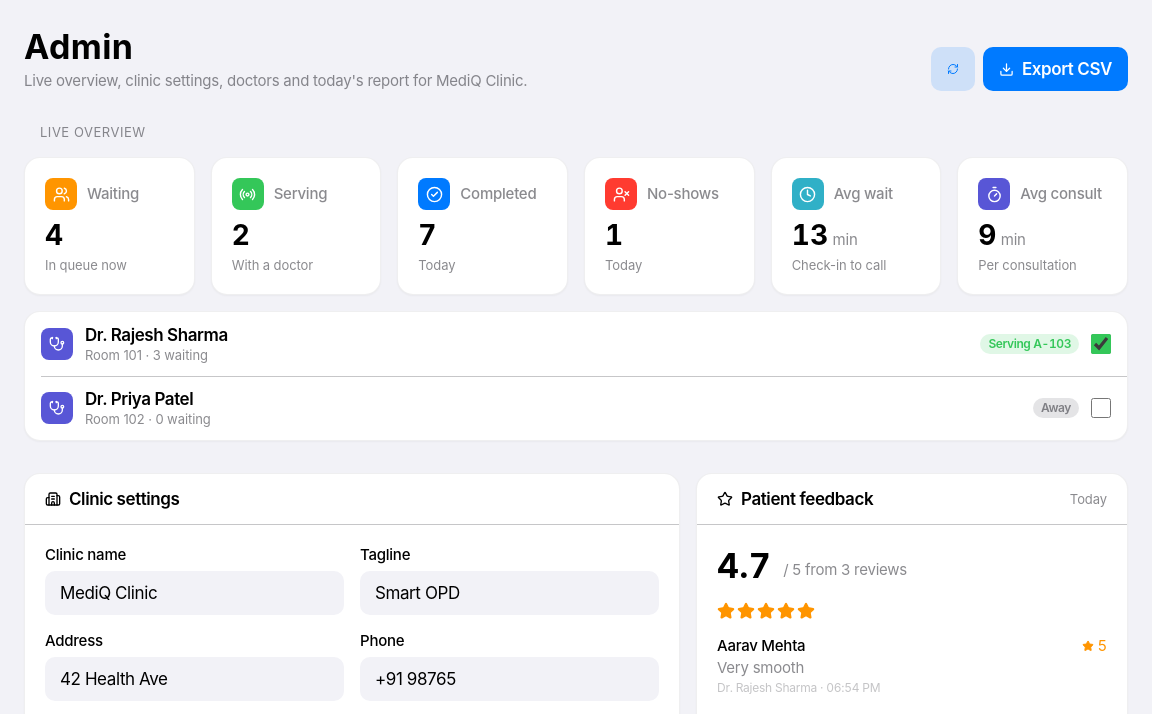
it: AdminDashboardPage › toggles doctor availability and saves clinic settings
Expected: the heading "Admin" is shown, top-left (24, 26), bottom-right (133, 67)
Click the switch named "Dr. Priya Patel available".
click(1101, 408)  # box top-left (1091, 398), bottom-right (1111, 418)
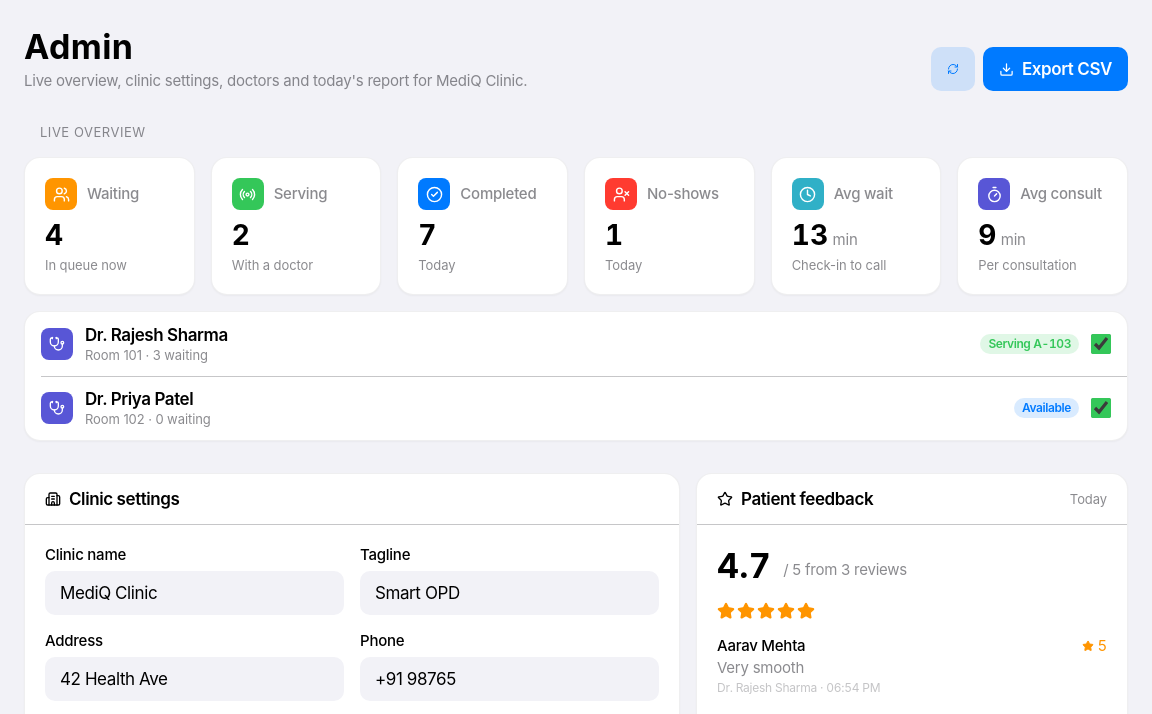
Result: the switch named "Dr. Priya Patel available" is checked at top-left (1091, 398), bottom-right (1111, 418)
Replace the text in the field labelled "Clinic name" with "Renamed Clinic" at (194, 593), box top-left (45, 571), bottom-right (344, 615)
(page scrolled)
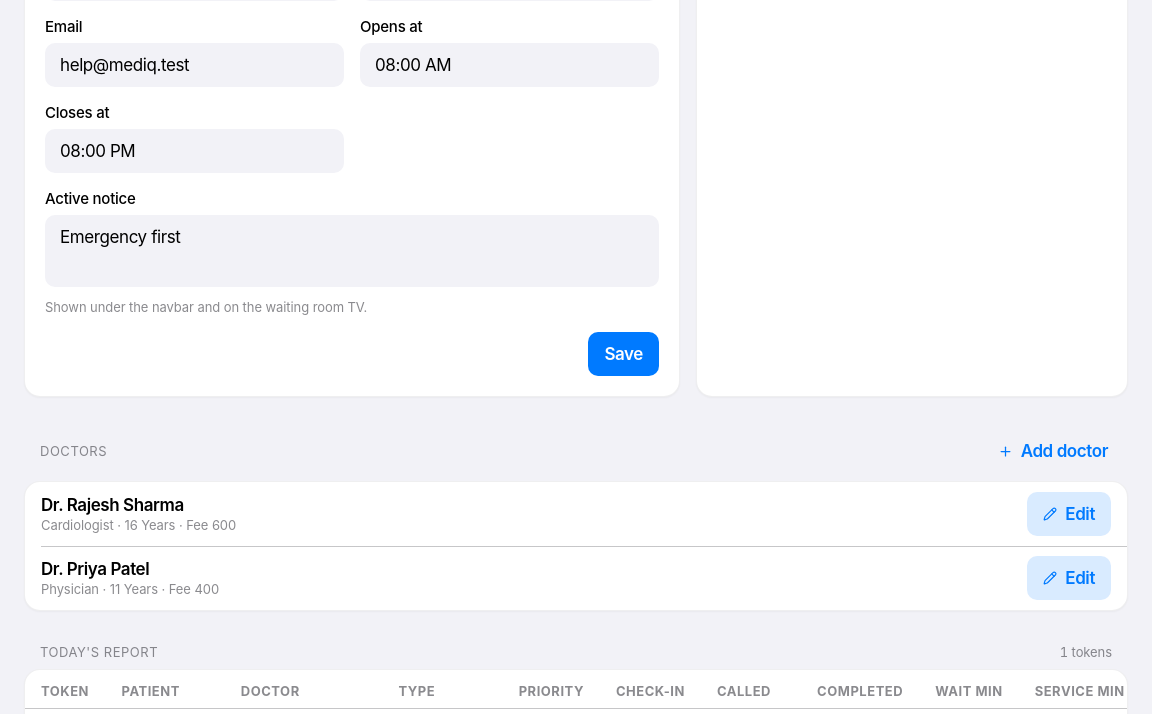
Click the button "Save".
click(624, 354)  # box top-left (588, 332), bottom-right (659, 376)
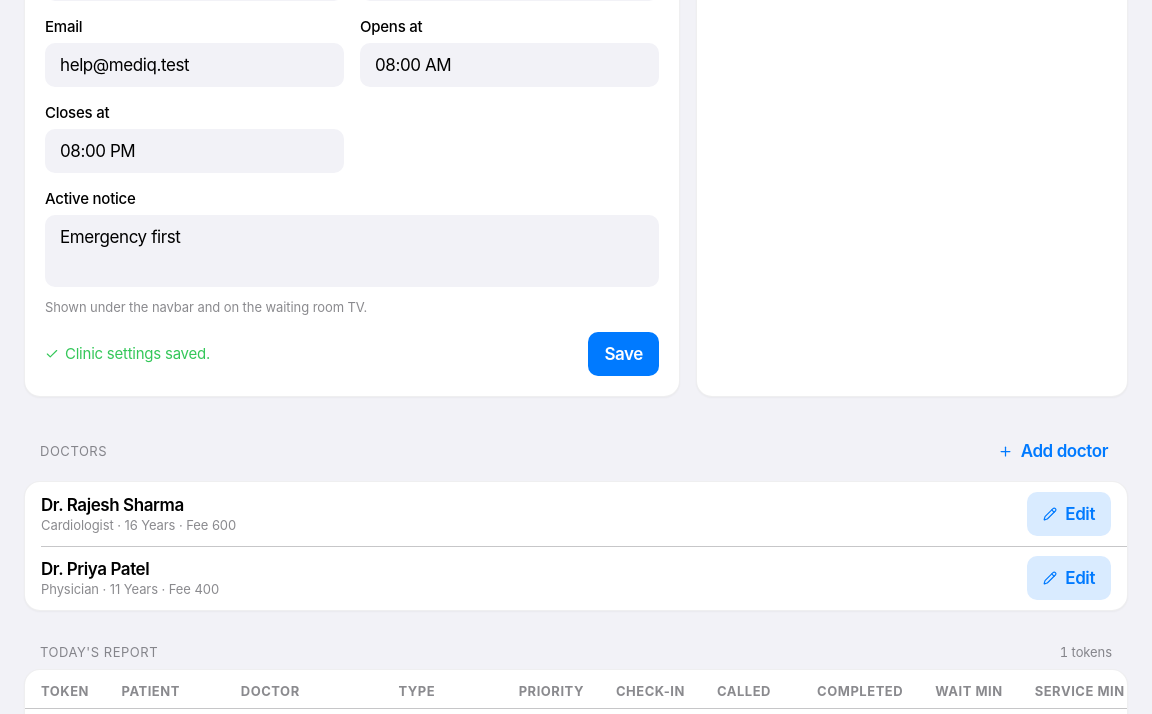
Result: the text "Clinic settings saved." is shown at top-left (45, 344), bottom-right (210, 364)
